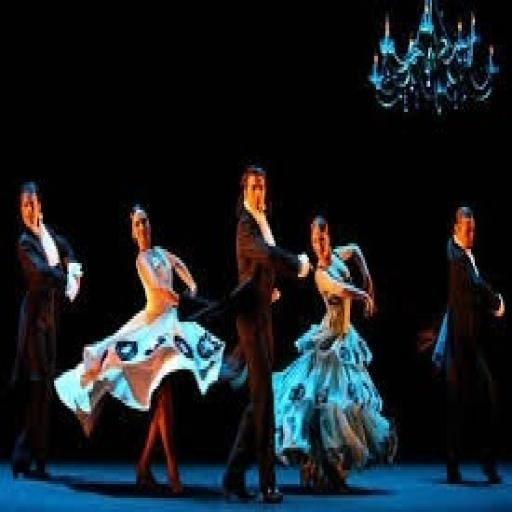dancing: (52, 198, 238, 500), (270, 210, 400, 498), (220, 157, 314, 509), (426, 198, 510, 490), (8, 173, 86, 484)
